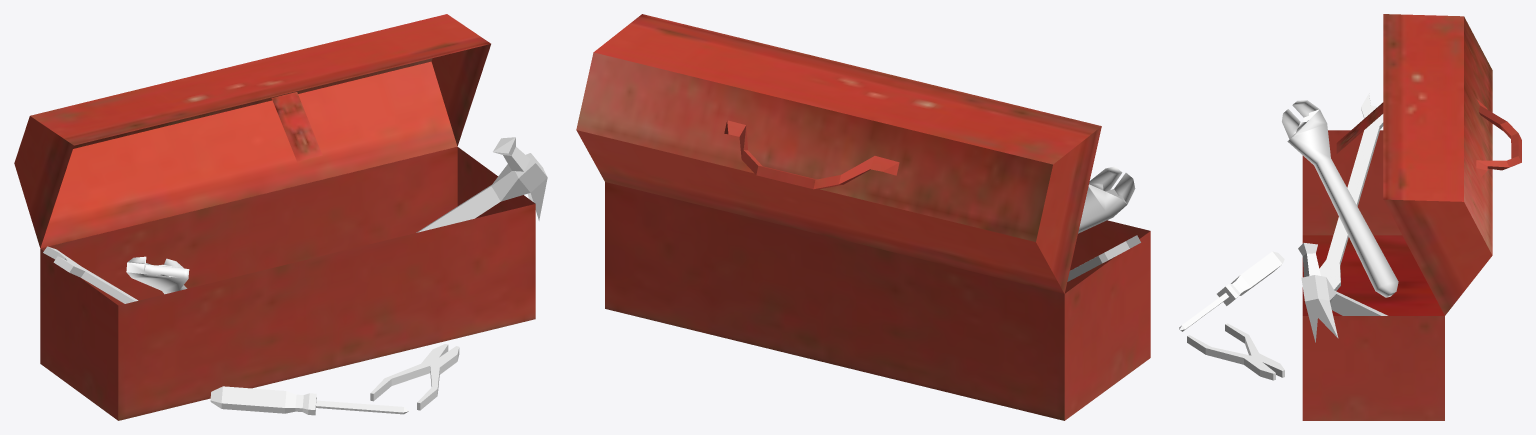
The picture shows the model from 3 angles, left to right: view 1: azimuth 30°, elevation 25°; view 2: azimuth 150°, elevation 25°; view 3: azimuth 270°, elevation 25°; orthographic projection. The views are drawn at different scales.
Parts seen in each view (by area): view 1: ToolBox, Hammer, ScrewDriverPlastic, Plires, AWrench, Wrench; view 2: ToolBox, AWrench, Wrench; view 3: ToolBox, AWrench, Hammer, Wrench, Plires, ScrewDriverPlastic.
Boxes of the visible parts, box(x1,y1,x2,y2) form: ToolBox: box(14, 14, 535, 420); Hammer: box(416, 137, 547, 232); ScrewDriverPlastic: box(210, 386, 408, 415); Plires: box(370, 344, 459, 410); AWrench: box(126, 256, 189, 294); Wrench: box(43, 246, 138, 303); ToolBox: box(576, 14, 1150, 420); AWrench: box(1078, 166, 1135, 233); Wrench: box(1067, 235, 1140, 281); ToolBox: box(1302, 14, 1521, 420); AWrench: box(1282, 100, 1398, 297); Hammer: box(1298, 243, 1387, 342); Wrench: box(1319, 94, 1383, 290); Plires: box(1187, 323, 1284, 380); ScrewDriverPlastic: box(1179, 251, 1284, 331).
Size of the model in its own units: 2.16 by 1.09 by 1.52.
6 materials, 1 textured.
